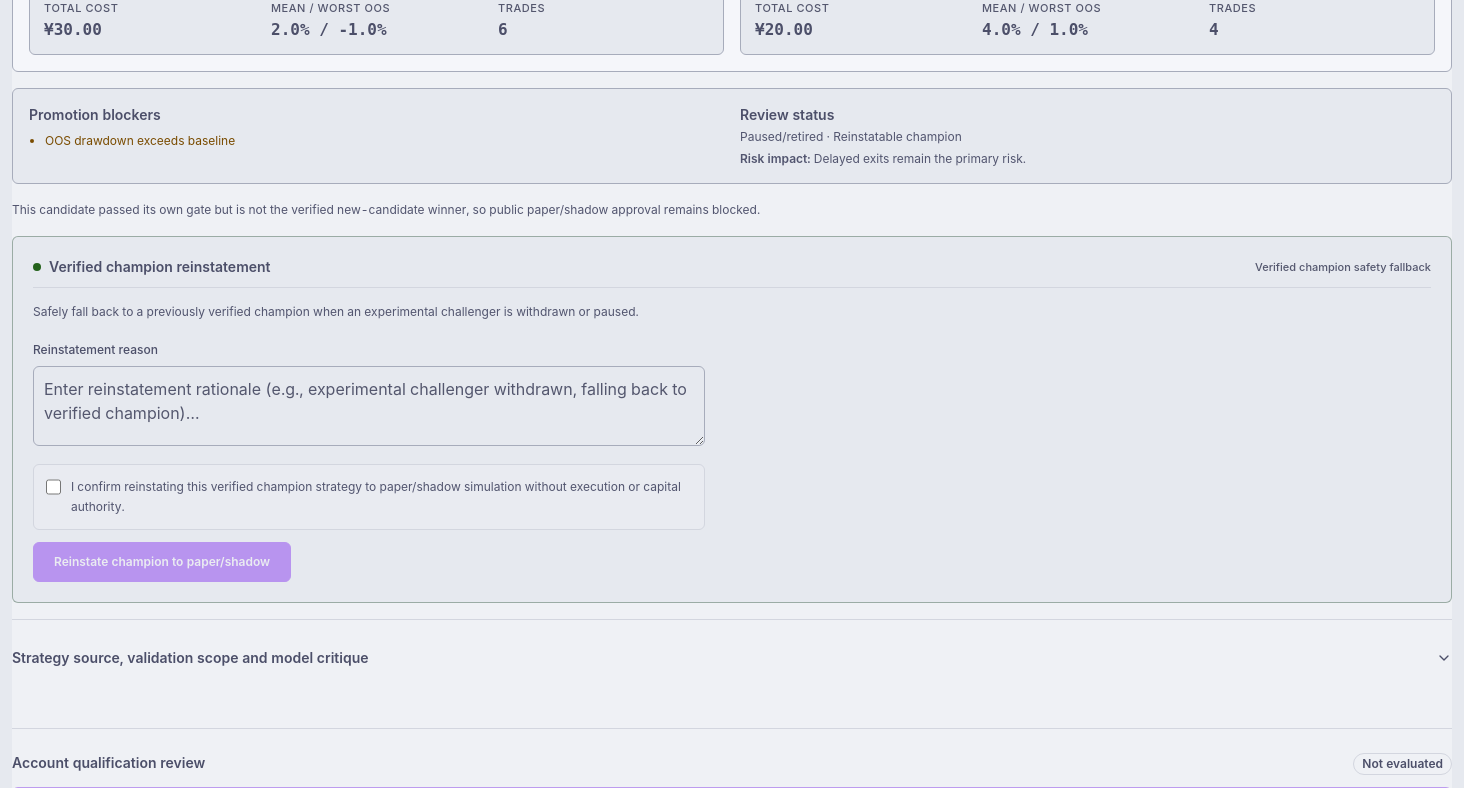
Test: reinstates a previously verified champion strategy when experimental challenger is withdrawn or paused
(page scrolled)
Expected: the button with test id "reinstate-candidate-button" is disabled, [33,542,291,582]
Replace the text in the text box with test id "reinstatement-reason-input" with "Challenger withdrawn; restoring incumbent champion.": (369, 406) [33,366,705,446]
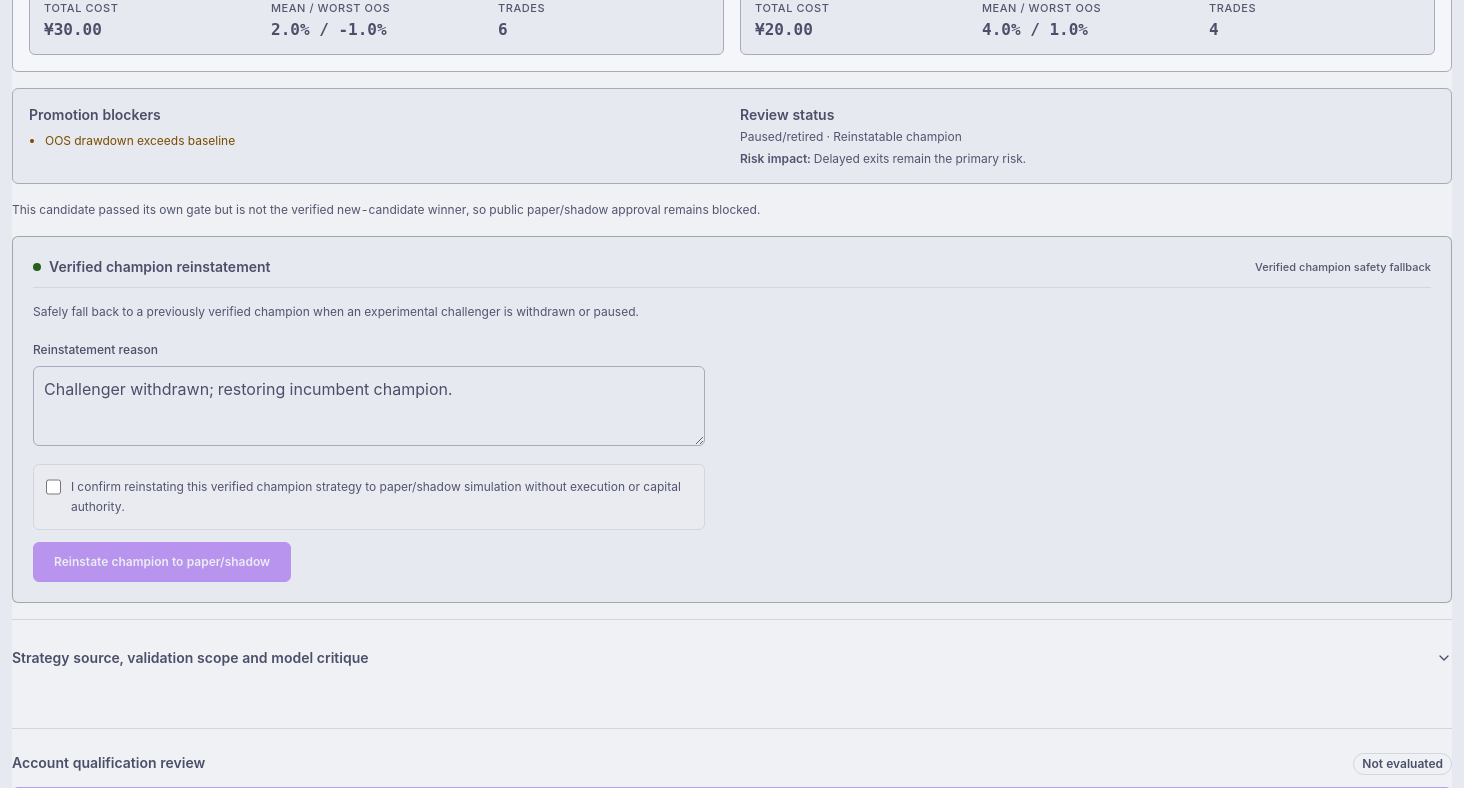
Click the checkbox with test id "reinstatement-confirmation-checkbox": click(53, 486) [46,478,61,494]
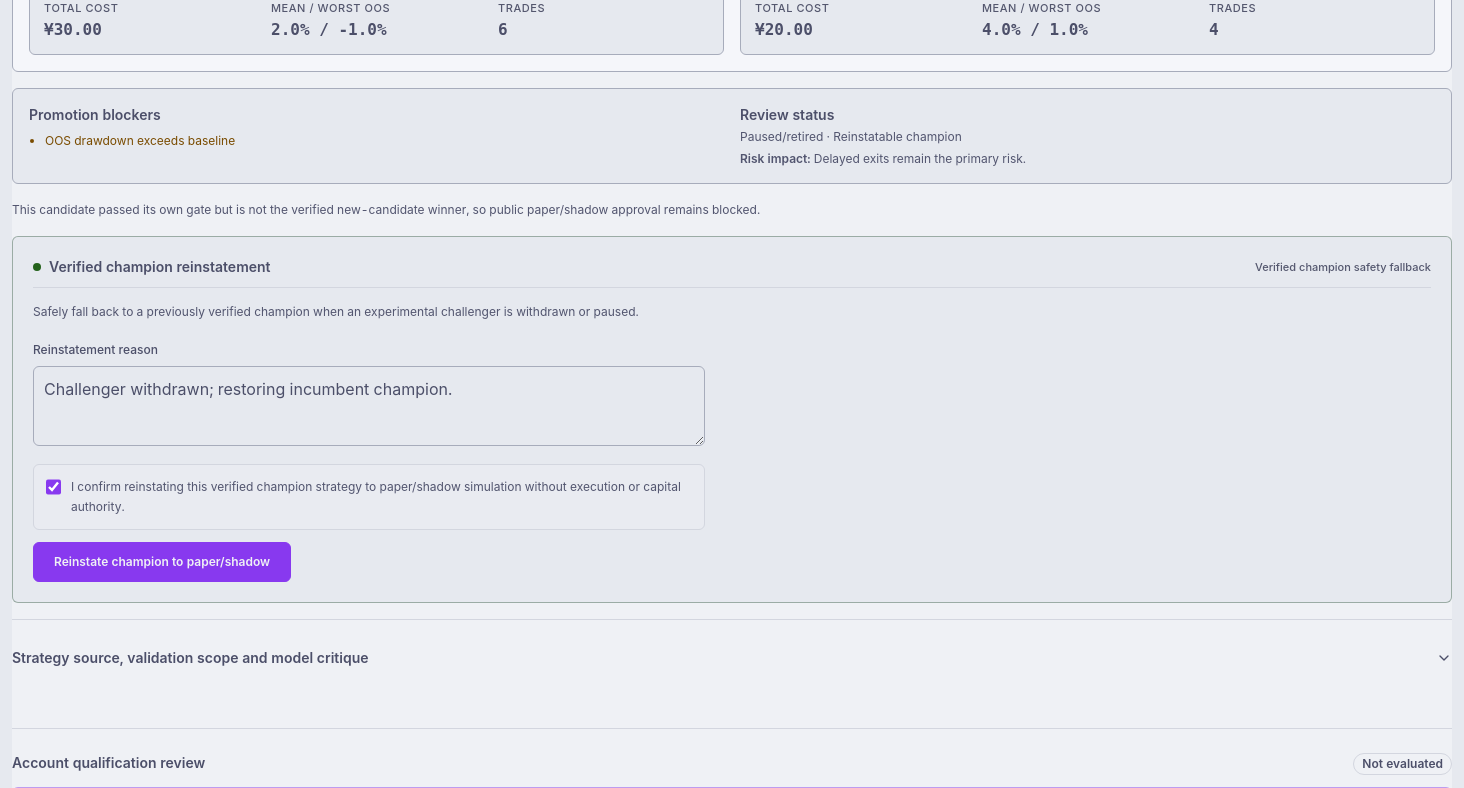
Now the button with test id "reinstate-candidate-button" is enabled
Click the button with test id "reinstate-candidate-button": click(162, 562) [33,542,291,582]
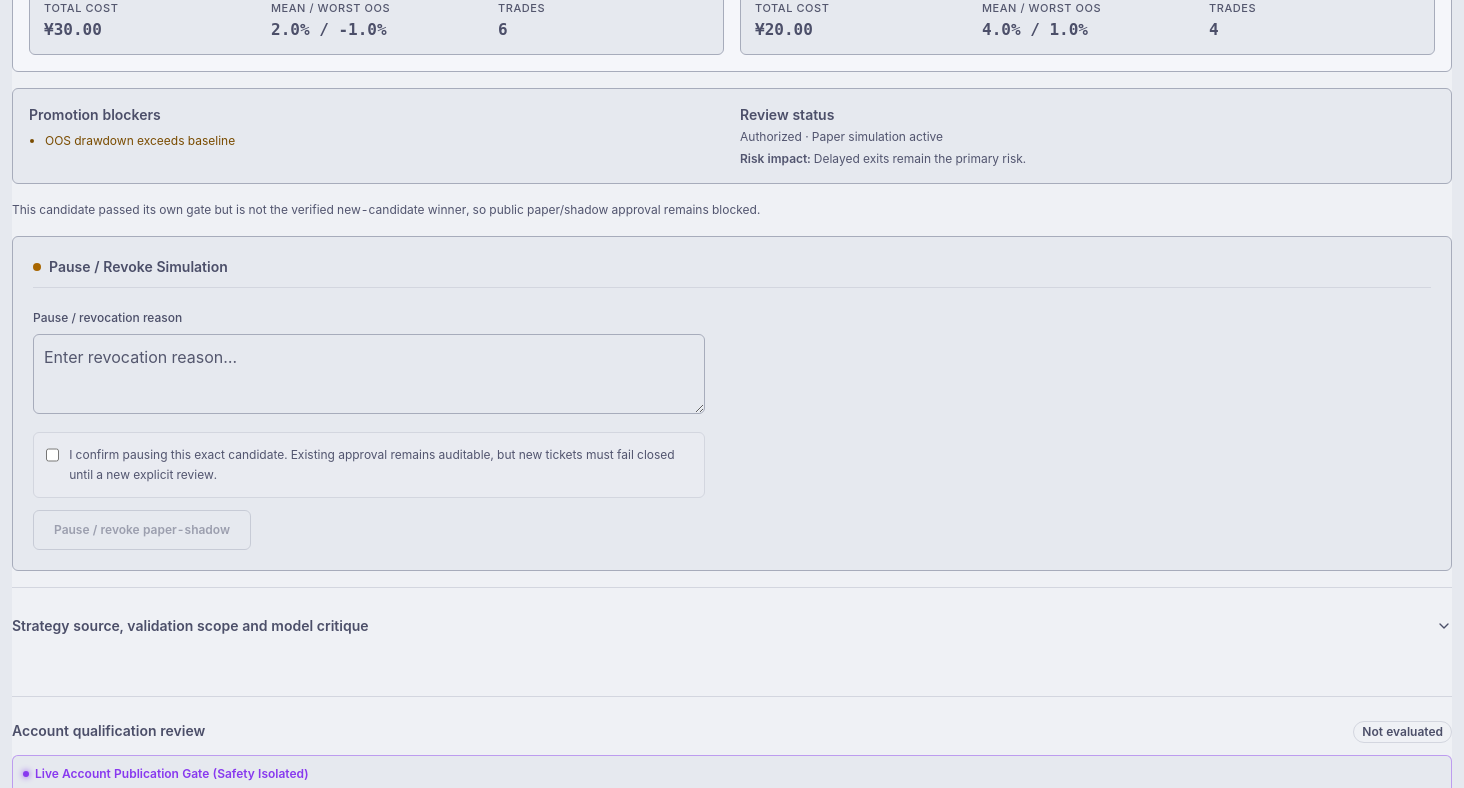
Now the text "Authorized · Paper simulation active" is shown, box [740,128,943,144]
Now the element with test id "candidate-reinstate-form" is gone
